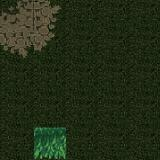Slow: (34, 128, 66, 160)
